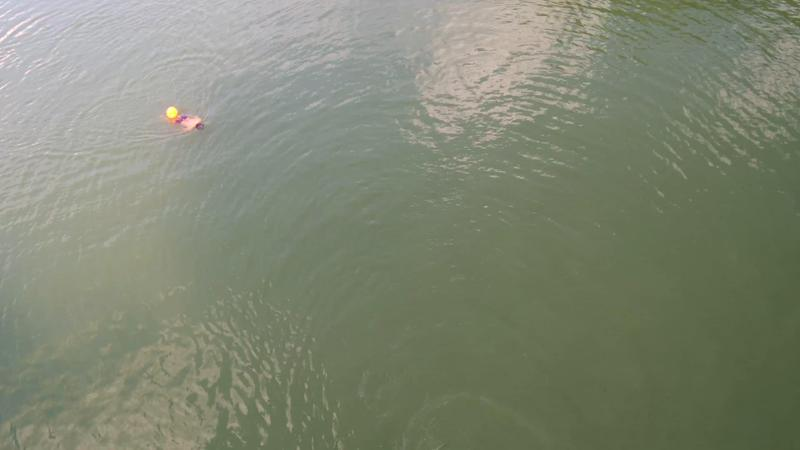swimmers: (160, 105, 207, 139)
